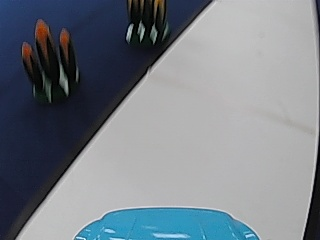corn: (23, 19, 80, 109), (123, 0, 169, 47)
